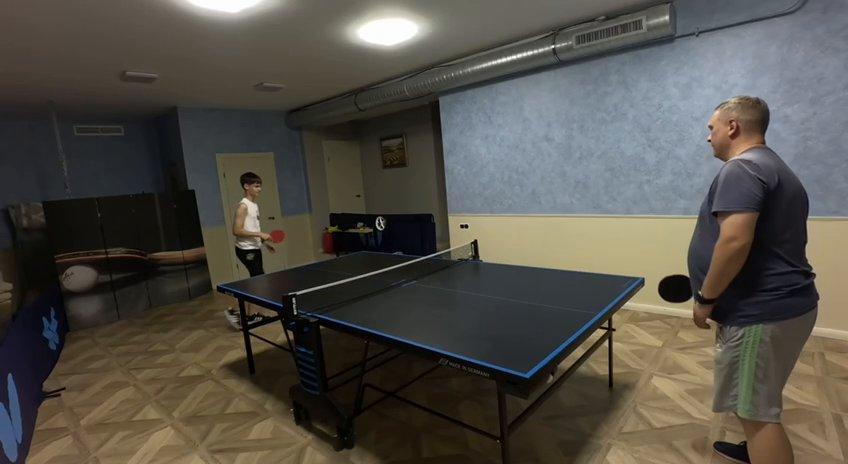Net: (280, 241, 481, 325)
Player1: (233, 172, 274, 276)
Player2: (687, 102, 818, 463)
Table: (220, 250, 640, 376)
